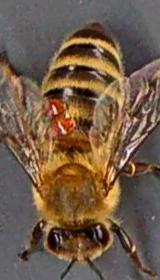varroa_mite: (40, 92, 72, 118), (50, 110, 79, 135)
